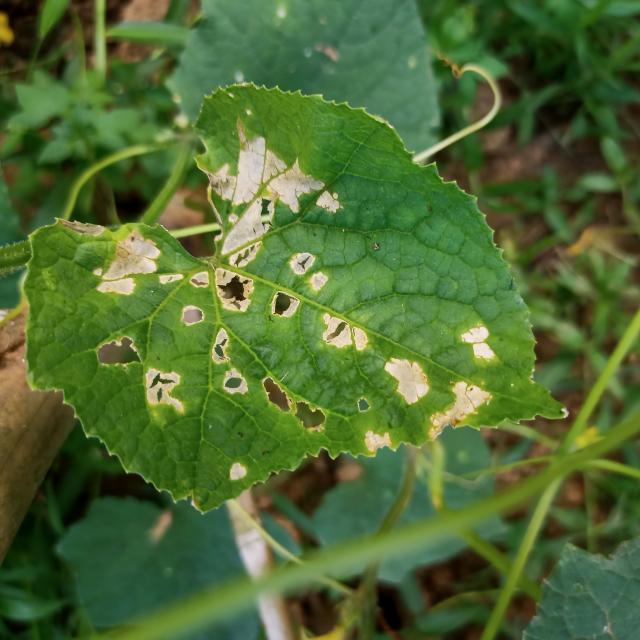disease_cucumber: (87, 121, 371, 416), (356, 320, 513, 456), (216, 449, 257, 488)
